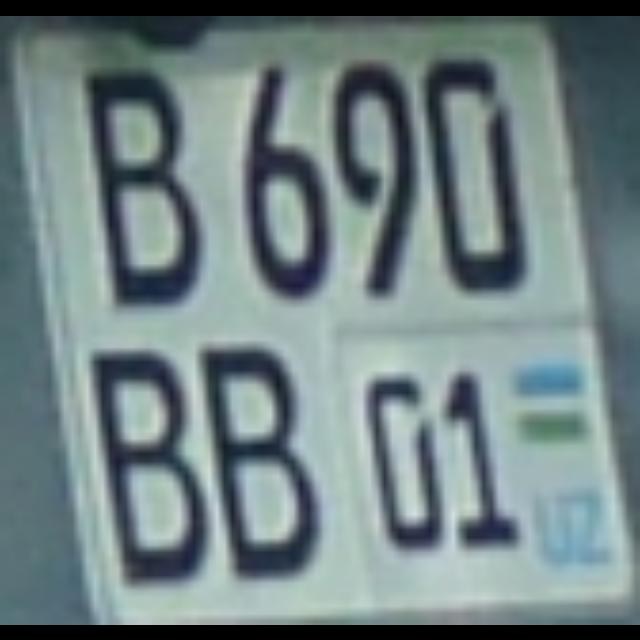0: (412, 46, 511, 282), (358, 365, 434, 533)
1: (442, 365, 511, 533)
6: (236, 52, 320, 282)
9: (328, 53, 404, 289)
B: (190, 335, 312, 571), (76, 61, 190, 297), (84, 342, 198, 572)
